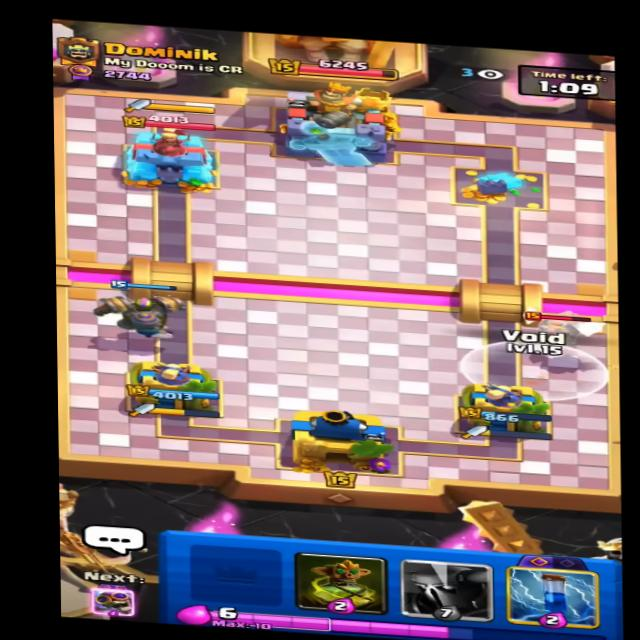lava-hound: (508, 301, 605, 348)
